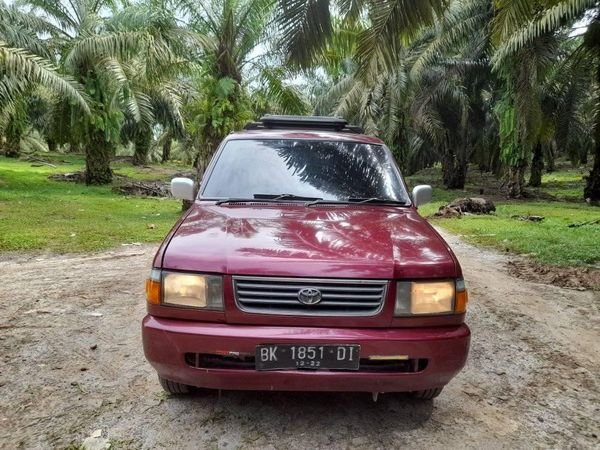plate: (253, 338, 365, 373)
